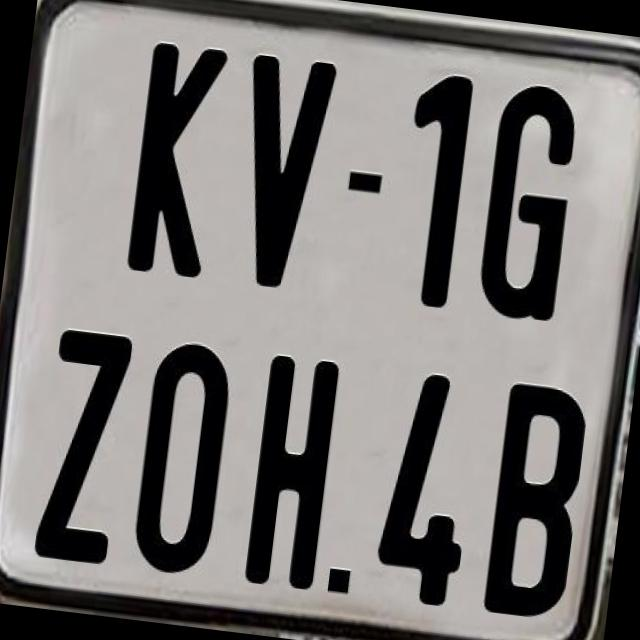0: (128, 334, 238, 574)
1: (391, 68, 482, 314)
4: (371, 368, 489, 606)
B: (482, 379, 590, 625)
G: (471, 81, 585, 325)
H: (242, 352, 338, 592)
K: (126, 38, 232, 276)
V: (224, 48, 340, 286)
Z: (30, 328, 138, 574)
